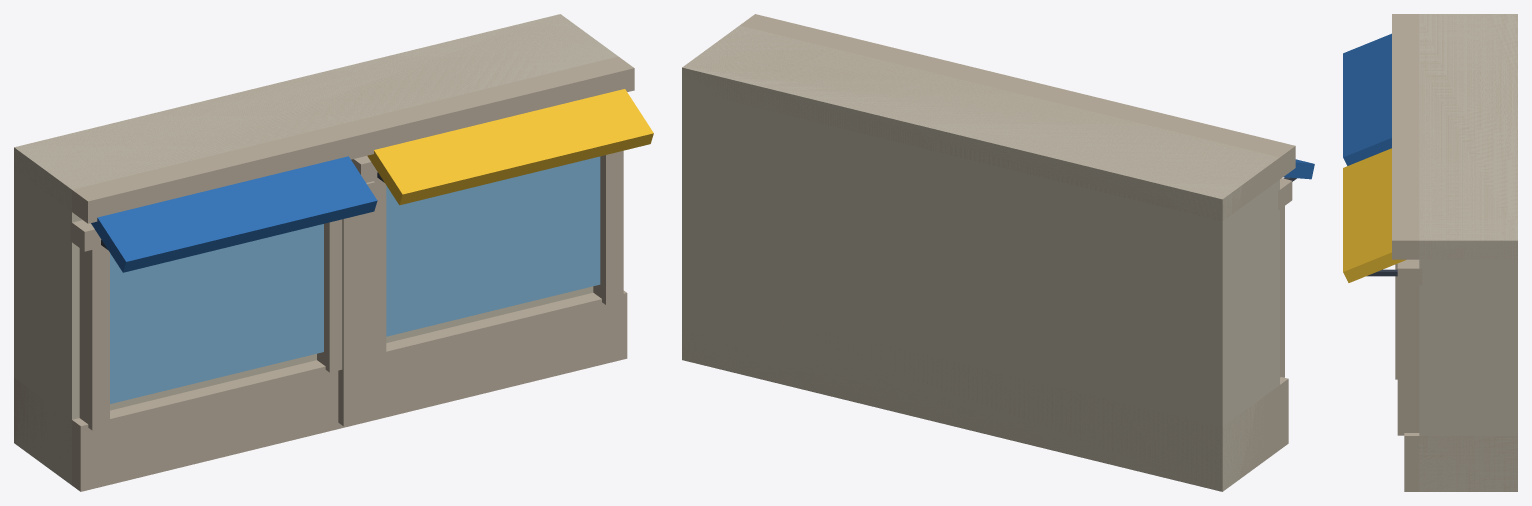
Rendered from cittaCremaBaseB.glb.
3 renders of one model, left to right at view 1: azimuth 30°, elevation 25°; view 2: azimuth 150°, elevation 25°; view 3: azimuth 270°, elevation 25°, orthographic. The views are drawn at different scales.
Parts seen in each view (by area): view 1: cittaCremaBaseB_stone, cittaCremaBaseB_glass, cittaCremaBaseB_cittaCrema, cittaCremaBaseB_blue, cittaCremaBaseB_yellow; view 2: cittaCremaBaseB_cittaCrema, cittaCremaBaseB_stone; view 3: cittaCremaBaseB_cittaCrema, cittaCremaBaseB_stone, cittaCremaBaseB_yellow, cittaCremaBaseB_blue.
Part boxes in pixels (x1=…): cittaCremaBaseB_stone: x1=14, y1=14, x2=634, y2=491; cittaCremaBaseB_glass: x1=110, y1=156, x2=600, y2=403; cittaCremaBaseB_cittaCrema: x1=14, y1=14, x2=617, y2=485; cittaCremaBaseB_blue: x1=91, y1=156, x2=377, y2=272; cittaCremaBaseB_yellow: x1=367, y1=89, x2=653, y2=205; cittaCremaBaseB_cittaCrema: x1=682, y1=25, x2=1279, y2=491; cittaCremaBaseB_stone: x1=682, y1=14, x2=1295, y2=491; cittaCremaBaseB_cittaCrema: x1=1419, y1=14, x2=1517, y2=491; cittaCremaBaseB_stone: x1=1392, y1=14, x2=1517, y2=491; cittaCremaBaseB_yellow: x1=1343, y1=148, x2=1406, y2=282; cittaCremaBaseB_blue: x1=1343, y1=33, x2=1391, y2=165.
Bounding box in the file's own units: 8.7 × 4.5 × 2.84.
